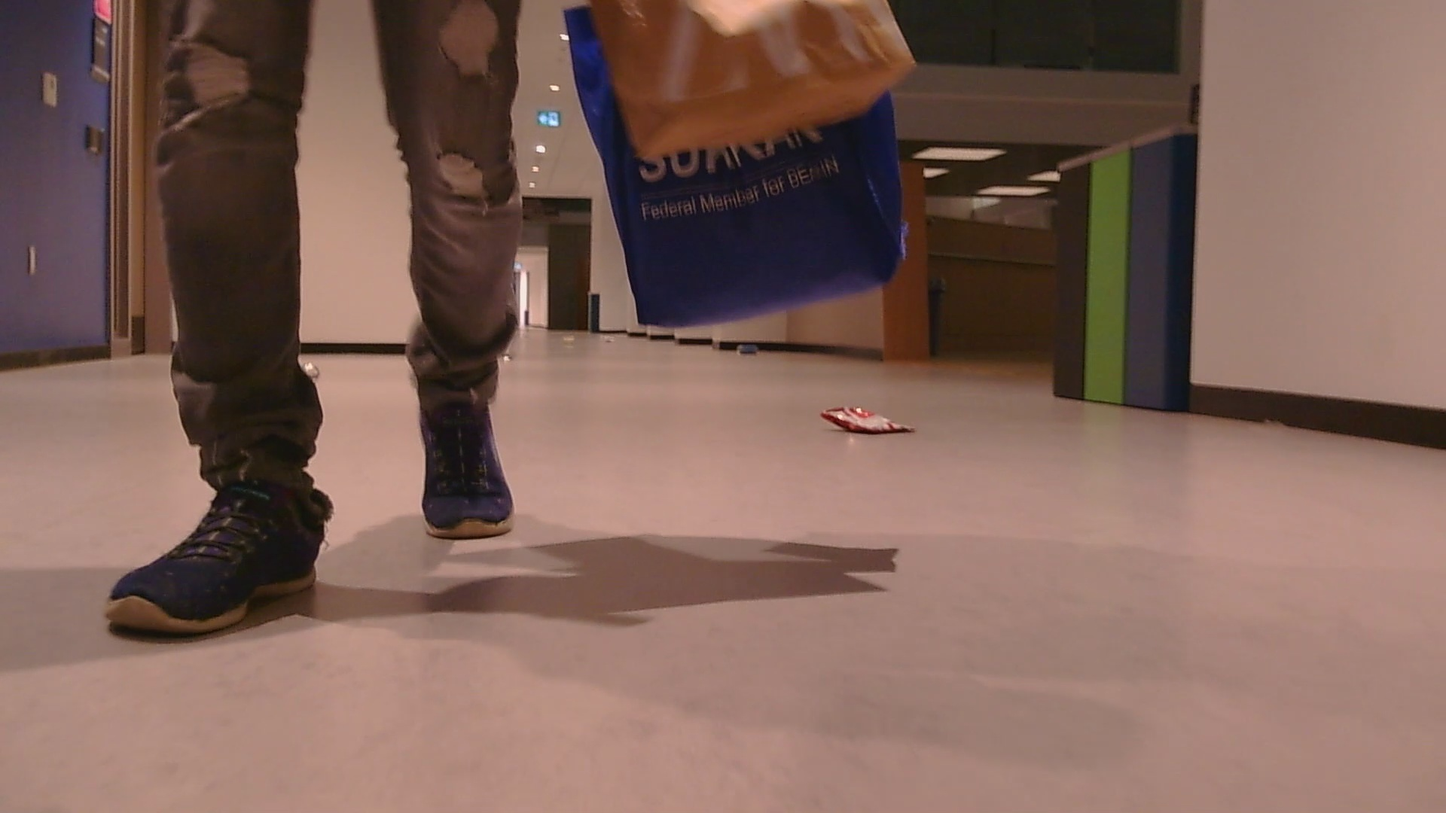carton: (803, 388, 925, 450)
